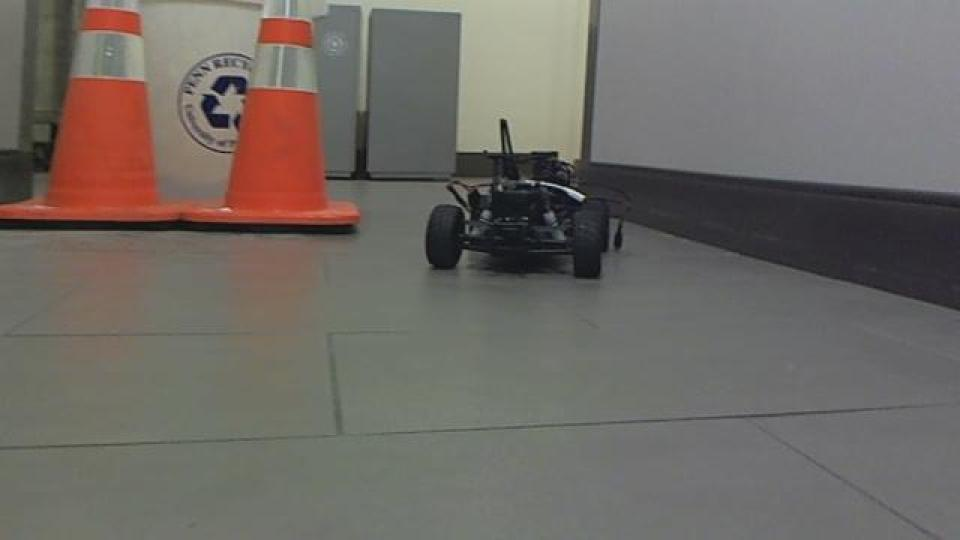car: (420, 116, 632, 282)
